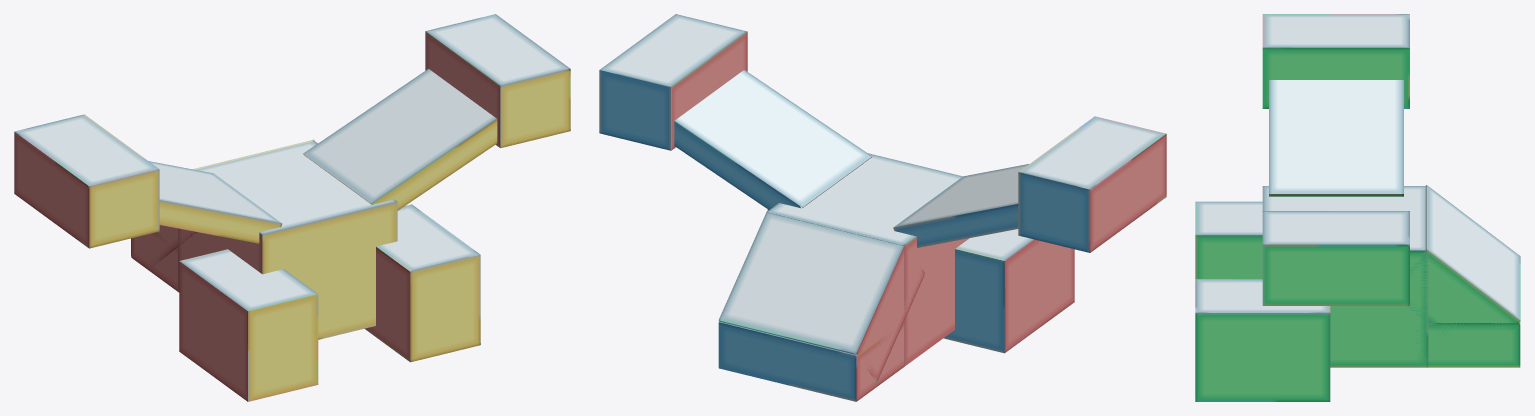
Rendered from SpaceShip-a.fbx.
3 views of the same model, side by side, from view 1: azimuth 30°, elevation 25°; view 2: azimuth 150°, elevation 25°; view 3: azimuth 270°, elevation 25° (orthographic). The views are drawn at different scales.
Parts seen in each view (by area): view 1: cube, cube_3, cube_5, cube_7, cube_4, cube_8, cube_6, cube_1, cube_2; view 2: cube_2, cube_5, cube_7, cube, cube_8, cube_3, cube_1, cube_6; view 3: cube_6, cube_4, cube_8, cube, cube_2, cube_7, cube_3, cube_1.
Part boxes in pixels (box(x1,y1,x2,y2)): cube: box(178, 141, 397, 339); cube_3: box(179, 249, 318, 401); cube_5: box(303, 69, 497, 210); cube_7: box(14, 114, 159, 248); cube_4: box(364, 204, 480, 362); cube_8: box(425, 14, 570, 148); cube_6: box(88, 161, 282, 243); cube_1: box(131, 232, 177, 291); cube_2: box(144, 139, 314, 266); cube_2: box(718, 210, 924, 382); cube_5: box(674, 70, 872, 209); cube_7: box(1018, 116, 1166, 252); cube: box(766, 153, 969, 366); cube_8: box(599, 14, 747, 150); cube_3: box(943, 229, 1074, 353); cube_1: box(718, 321, 904, 401); cube_6: box(893, 164, 1028, 247); cube_6: box(1269, 80, 1403, 196); cube_4: box(1195, 279, 1330, 401); cube_8: box(1262, 211, 1409, 305); cube: box(1262, 186, 1428, 367); cube_2: box(1407, 185, 1520, 335); cube_7: box(1262, 14, 1409, 108); cube_3: box(1195, 201, 1262, 279); cube_1: box(1416, 322, 1520, 367).
Size of the model in its own units: 556 by 244 by 331.
1 material, 1 textured.
